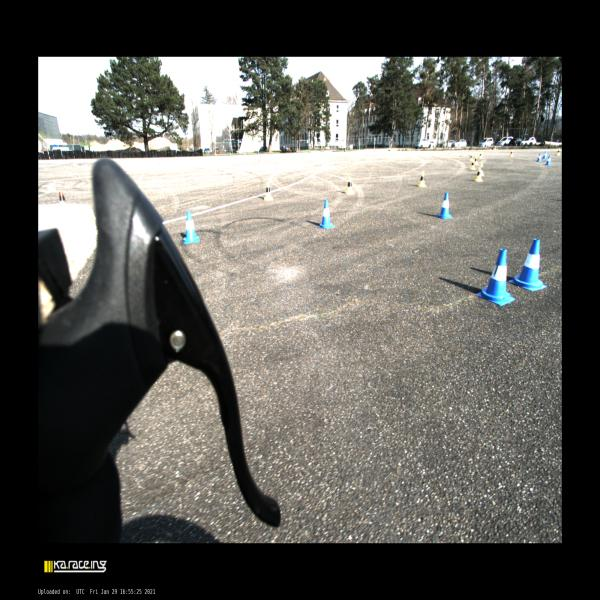blue_cone: (476, 248, 515, 306), (508, 239, 547, 291), (183, 210, 199, 244), (318, 200, 335, 228), (437, 192, 453, 219), (545, 156, 551, 166), (536, 153, 542, 162), (542, 151, 547, 159)
orange_cone: (59, 190, 66, 206)
yellow_cone: (264, 181, 273, 201), (418, 170, 427, 188), (346, 176, 354, 194), (474, 166, 483, 182), (470, 159, 476, 170), (474, 156, 479, 165), (481, 163, 484, 176), (509, 150, 514, 157), (556, 148, 560, 156), (479, 151, 482, 159), (470, 154, 472, 161)
